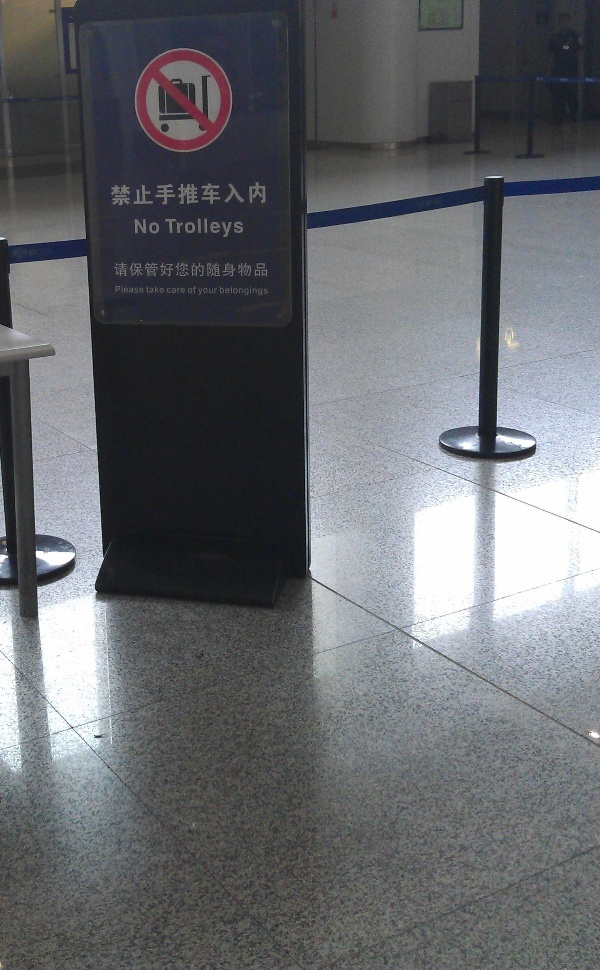text: (113, 182, 128, 207), (129, 182, 144, 207), (145, 182, 160, 207), (161, 182, 176, 207), (177, 182, 192, 207), (193, 182, 208, 207), (209, 182, 224, 207), (225, 182, 240, 207), (241, 182, 256, 207), (177, 218, 192, 240), (193, 218, 208, 240), (209, 218, 224, 240), (225, 218, 240, 240), (257, 182, 268, 207), (145, 219, 161, 235), (129, 263, 144, 278), (145, 263, 160, 278), (161, 263, 176, 278), (177, 263, 192, 278), (193, 263, 208, 278), (209, 263, 224, 278), (225, 263, 240, 278), (241, 263, 256, 278), (166, 218, 176, 240), (115, 263, 128, 278), (257, 263, 270, 278), (225, 286, 240, 297), (241, 286, 256, 297), (129, 285, 145, 295), (134, 219, 144, 235), (257, 286, 268, 297), (116, 285, 128, 295), (146, 286, 160, 294), (241, 218, 245, 240), (198, 288, 208, 296), (209, 288, 218, 296), (167, 288, 176, 294), (177, 288, 186, 294), (220, 286, 224, 297), (161, 286, 165, 294), (188, 286, 192, 294), (193, 286, 196, 294)
